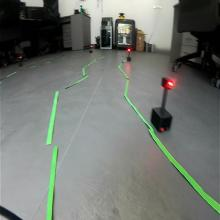red: (159, 74, 174, 91)
